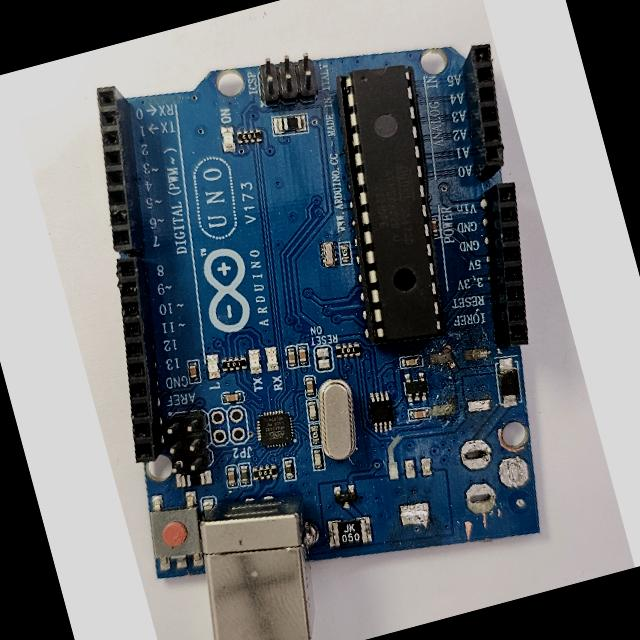missing_capacitors: (425, 337, 497, 423)
missing_eps: (454, 430, 513, 517)
missing_voltage_reg: (382, 452, 449, 539)
